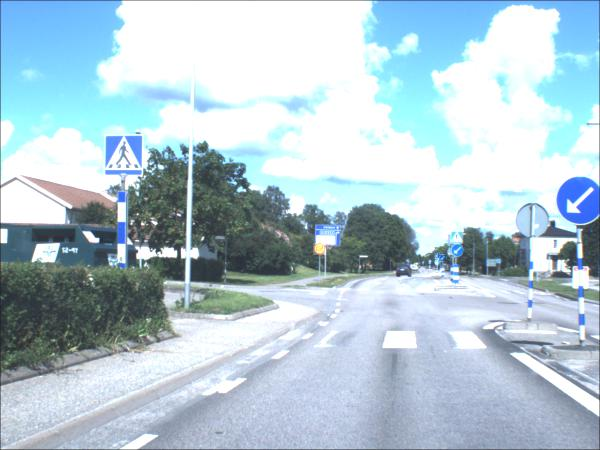50_SIGN: (313, 244, 327, 257)
PASS_RIGHT_SIDE: (554, 178, 599, 228), (450, 245, 464, 259), (439, 256, 447, 263), (435, 261, 440, 267)
PEDESTRIAN_CROSSING: (104, 135, 144, 177), (451, 234, 463, 246), (435, 255, 440, 261)
